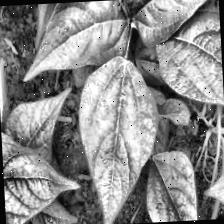ALS: (153, 0, 224, 120), (6, 186, 78, 224)
